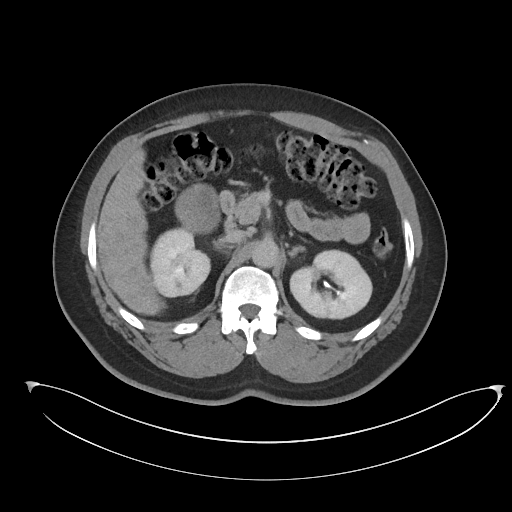Lesion: (171, 179, 227, 239)
